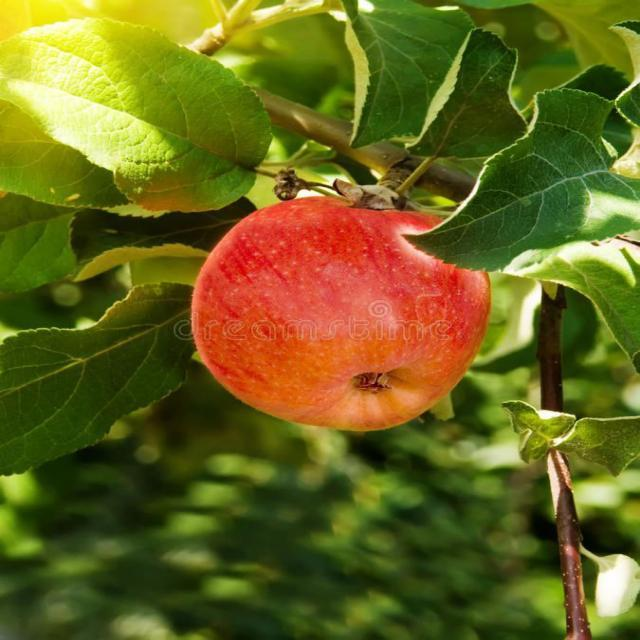Fresh Apple: (210, 197, 475, 420)
